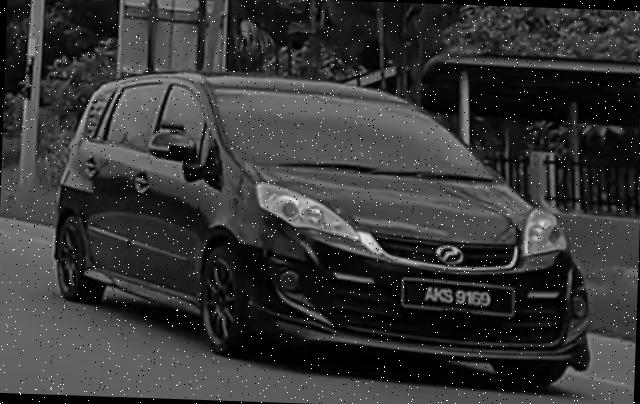License_Plate: (400, 276, 517, 320)
car: (48, 65, 601, 391)
